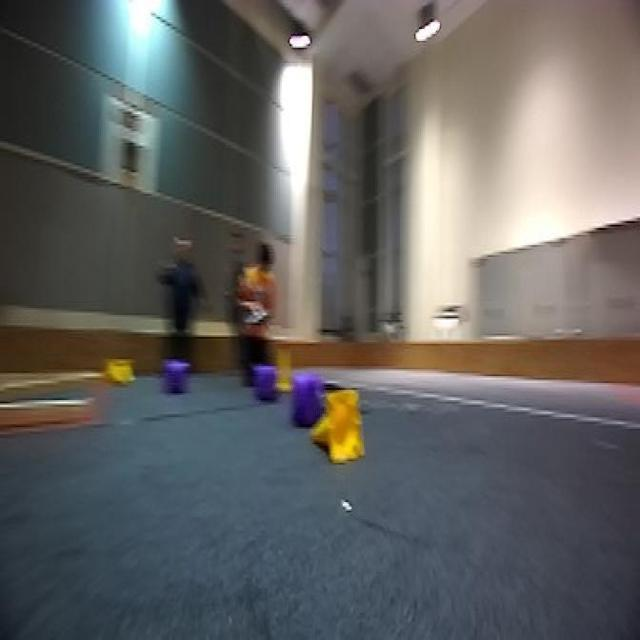frc_cone: (311, 386, 368, 466), (275, 344, 301, 395), (109, 359, 135, 393)
frc_cube: (292, 371, 330, 434), (250, 361, 276, 400), (166, 354, 188, 395)
